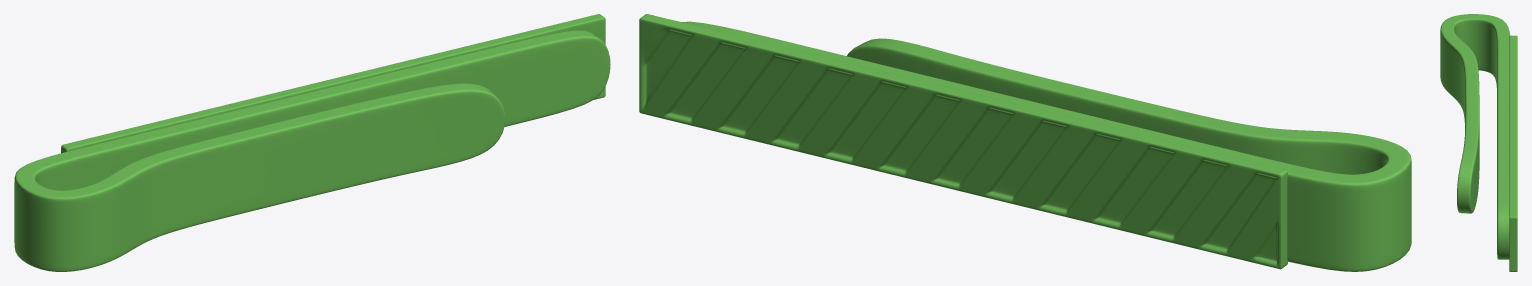
File: Clip.fbx
The picture shows the model from 3 angles, left to right: view 1: azimuth 30°, elevation 25°; view 2: azimuth 150°, elevation 25°; view 3: azimuth 270°, elevation 25°; orthographic projection. The views are drawn at different scales.
Visible parts, largest first — view 1: Clip; view 2: Clip; view 3: Clip.
Boxes of the visible parts, x1,y1,x2,y2 form: Clip: (14, 14, 610, 271); Clip: (639, 14, 1411, 271); Clip: (1440, 14, 1517, 271).
Size of the model in its own units: 531 by 66.56 by 84.33.
